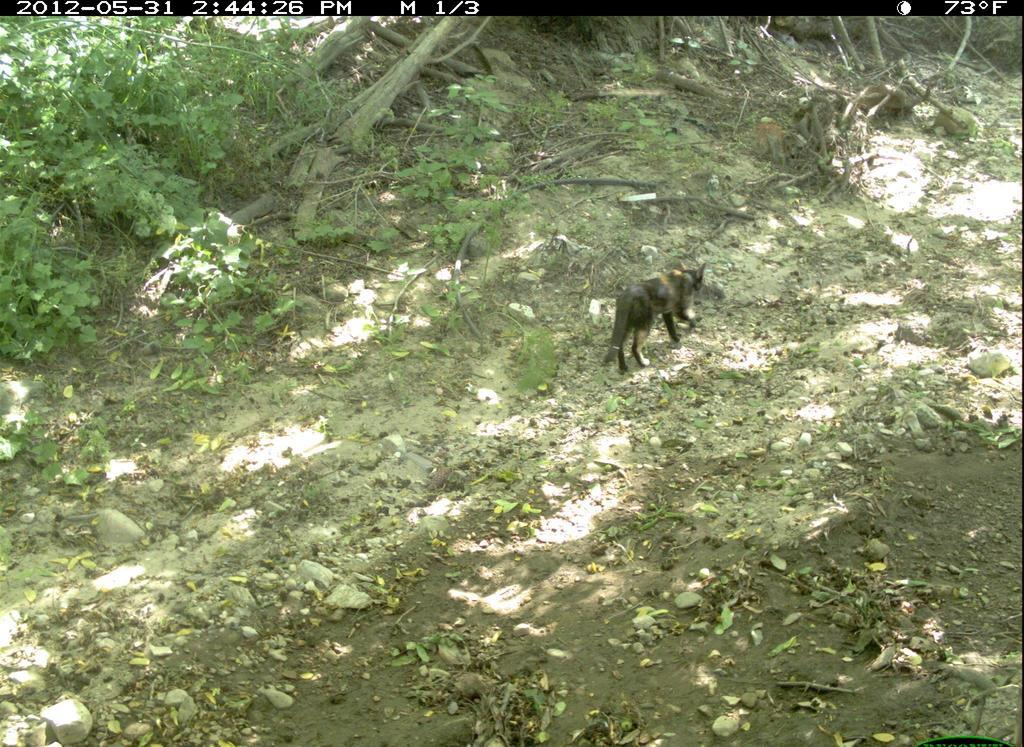cat: (596, 252, 713, 384)
